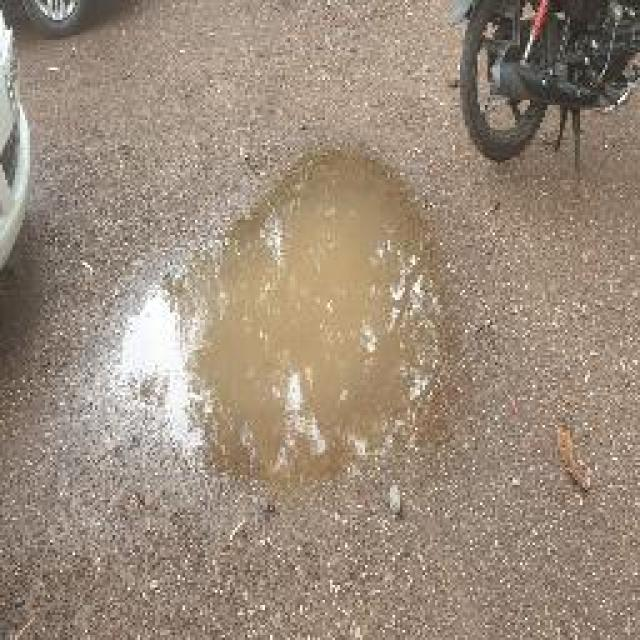puddle: (117, 147, 476, 498)
